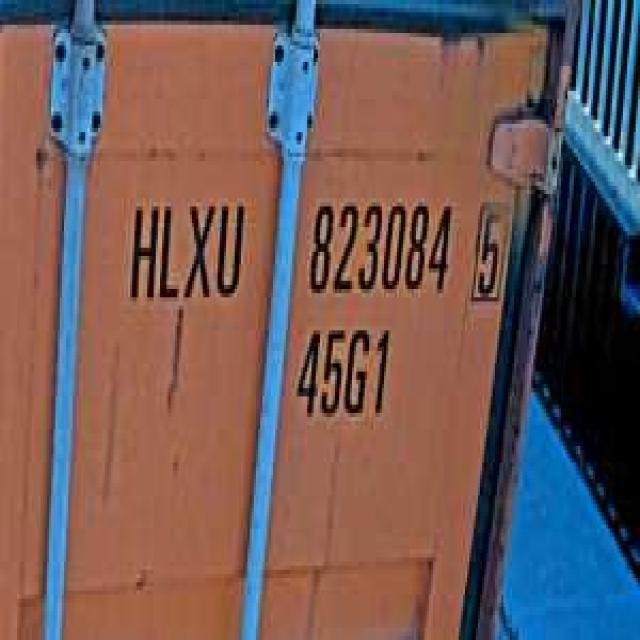dv: (467, 178, 510, 310)
owner: (121, 182, 248, 310)
serial: (301, 182, 454, 301)
size: (292, 310, 395, 429)
